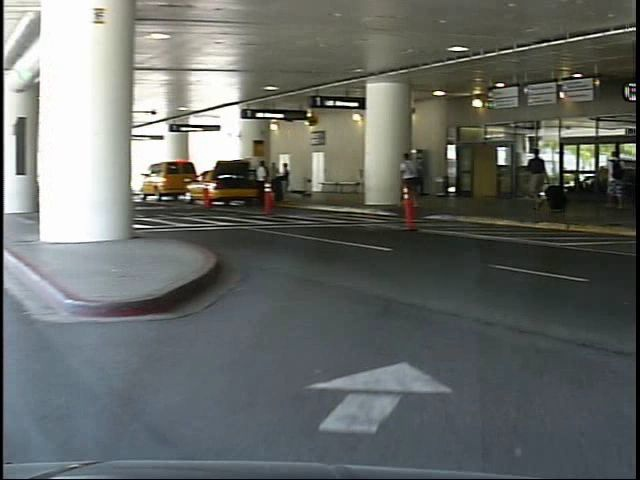person: (527, 142, 555, 218), (401, 148, 427, 214)
